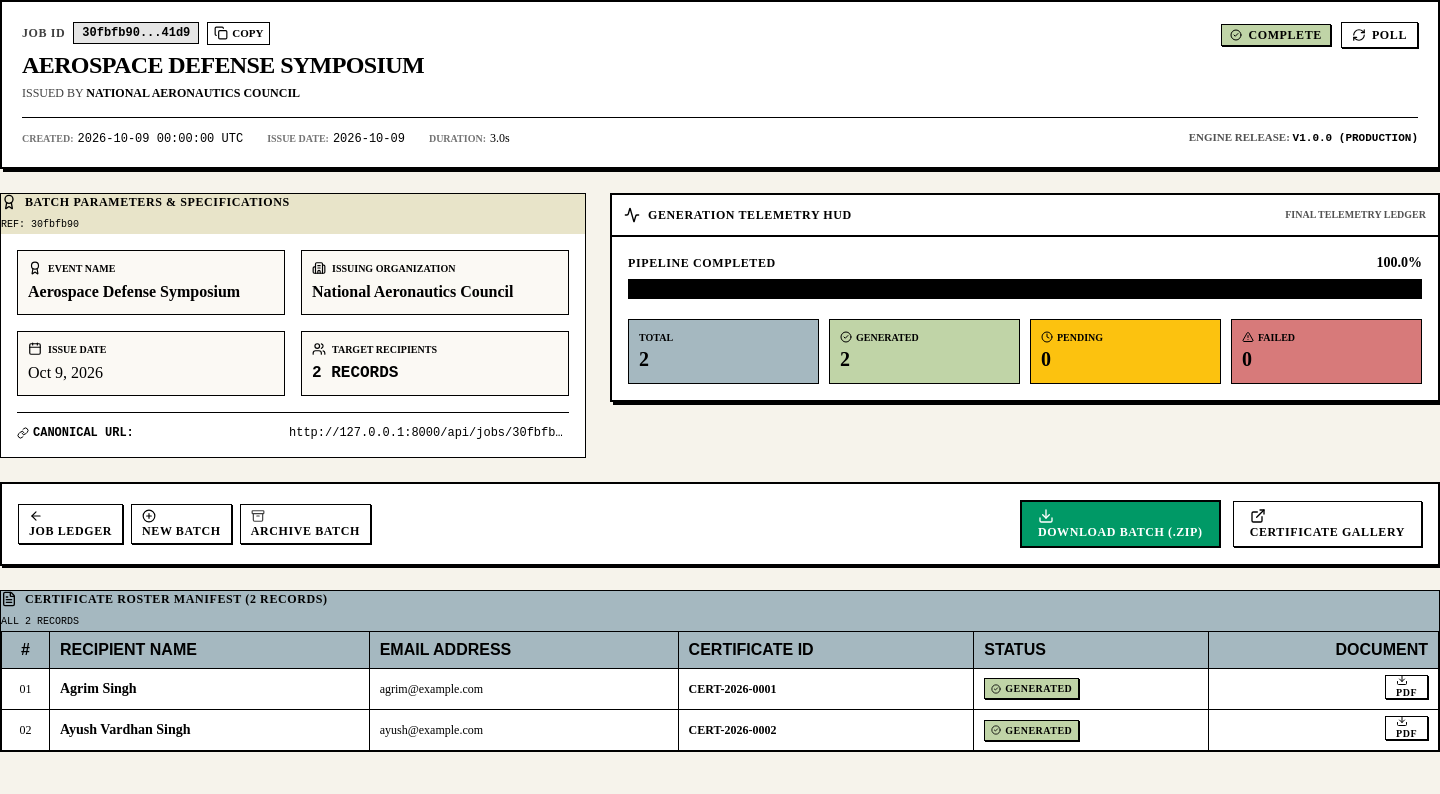
it: JobDetailPage Integration Tests › handles HTTP 409 download conflict gracefully without crashing
Expected: the text "DOWNLOAD BATCH (.ZIP)" is shown, [1038,508,1203,540]
Click the button with aria-label "Download generated certificate batch" at (1120, 524), box [1020,500,1221,548]
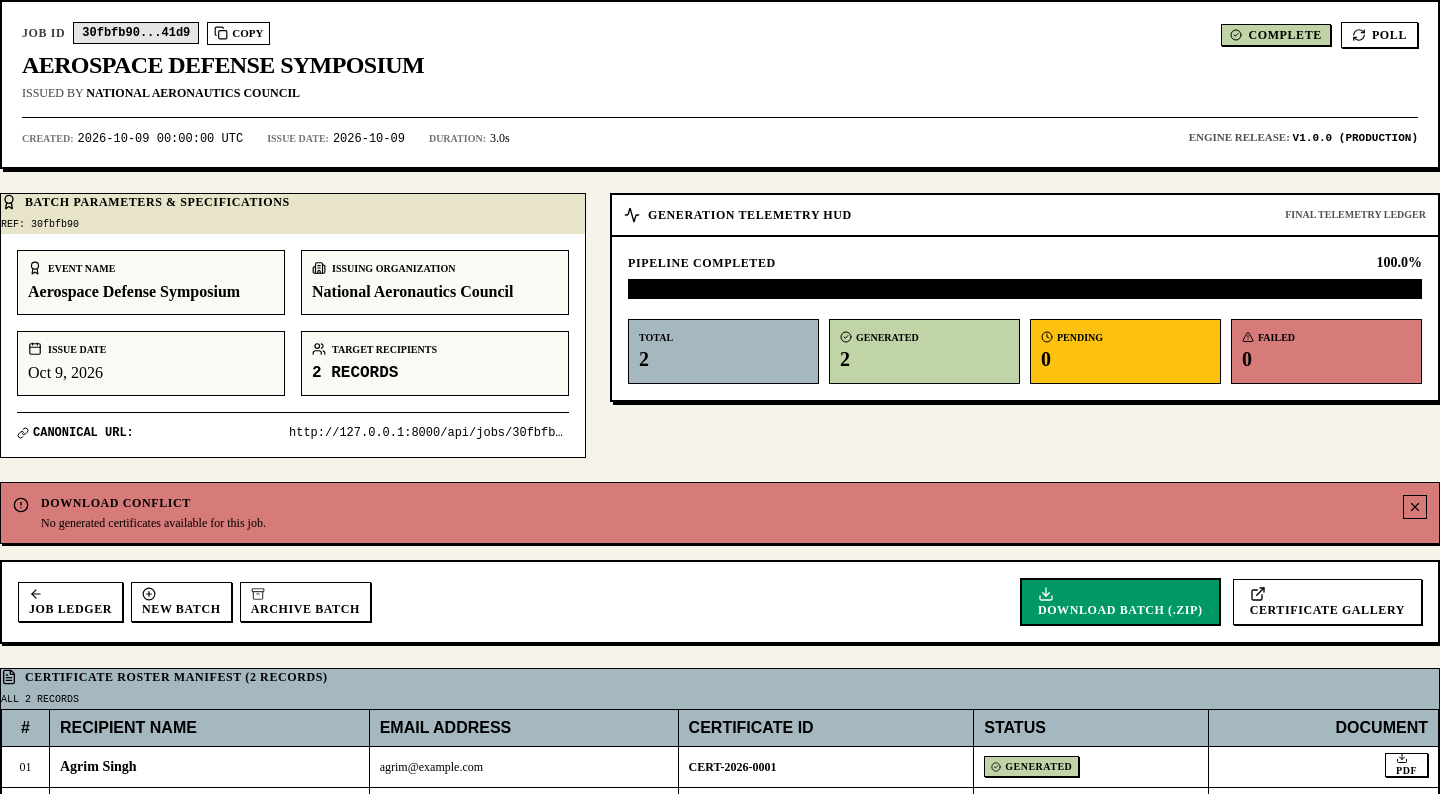
Expected: the text "No generated certificates available for this job." is shown, [41,516,266,530]
